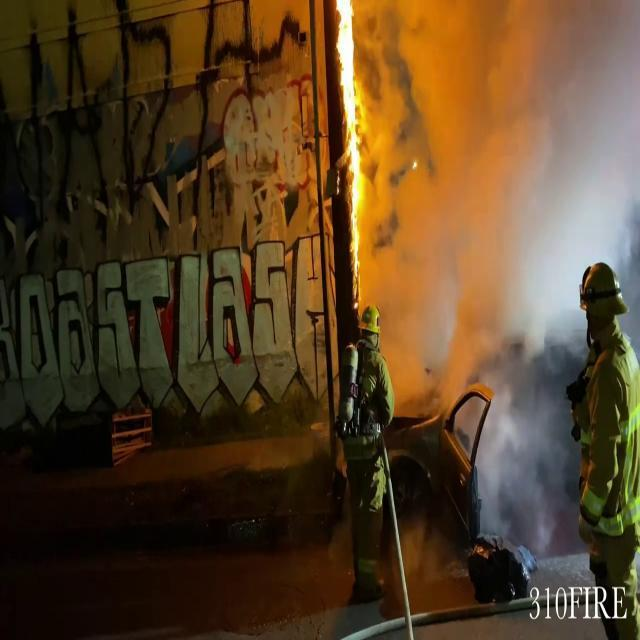Fire: (330, 0, 377, 282)
Smoke: (360, 0, 640, 554)
